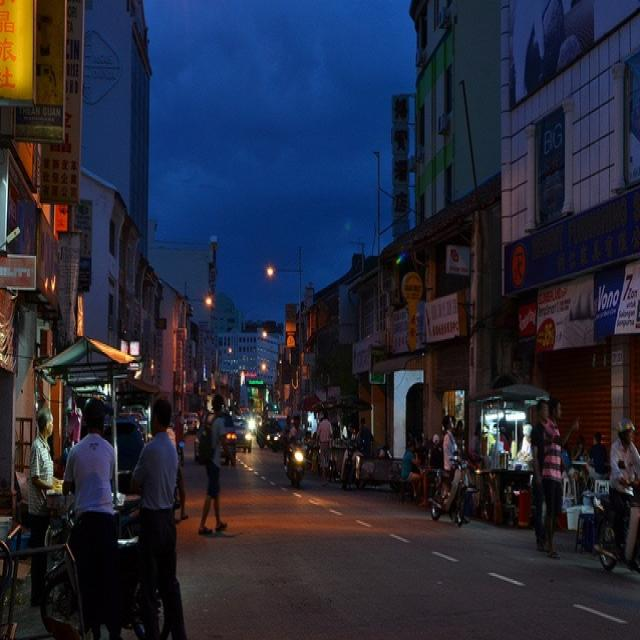Motorbike: (419, 478, 494, 543), (586, 479, 640, 567), (283, 434, 313, 515), (340, 428, 358, 485)
People: (61, 383, 134, 621), (138, 391, 208, 624), (20, 392, 73, 570), (525, 403, 568, 555), (202, 383, 238, 563), (307, 401, 333, 500), (610, 407, 640, 492), (402, 429, 430, 493), (355, 407, 381, 470), (436, 403, 457, 477), (566, 417, 587, 490), (596, 420, 615, 491)
car: (189, 374, 246, 461), (250, 411, 300, 447)
